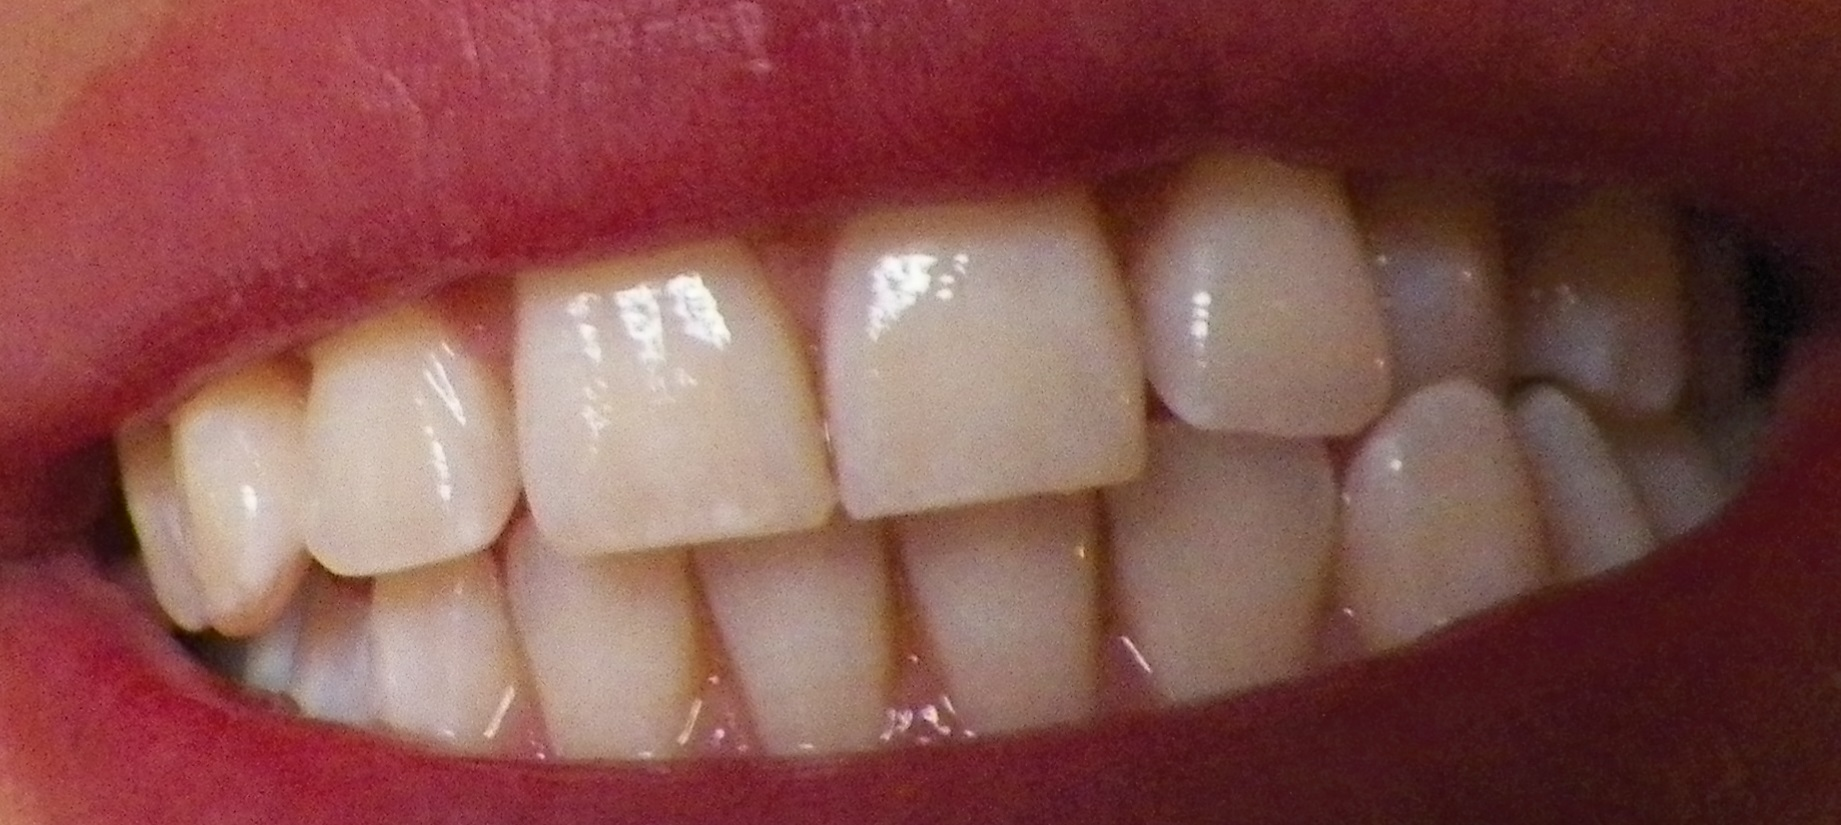boca: (113, 148, 1758, 767)
